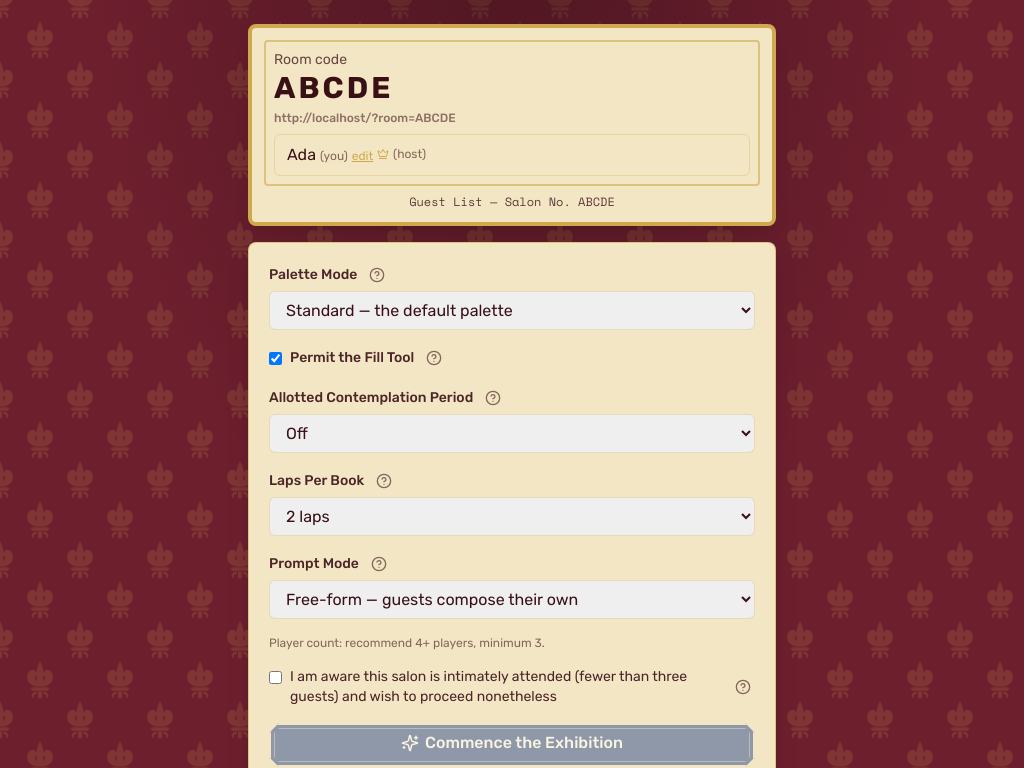
Scenario: Lobby room-code copy affordances › leaves the plain code text matchable (cue lives in a child element)
Step 1. Click the text with test id "room-code" → {"x": 334, "y": 88}, box [274,70,393,106]
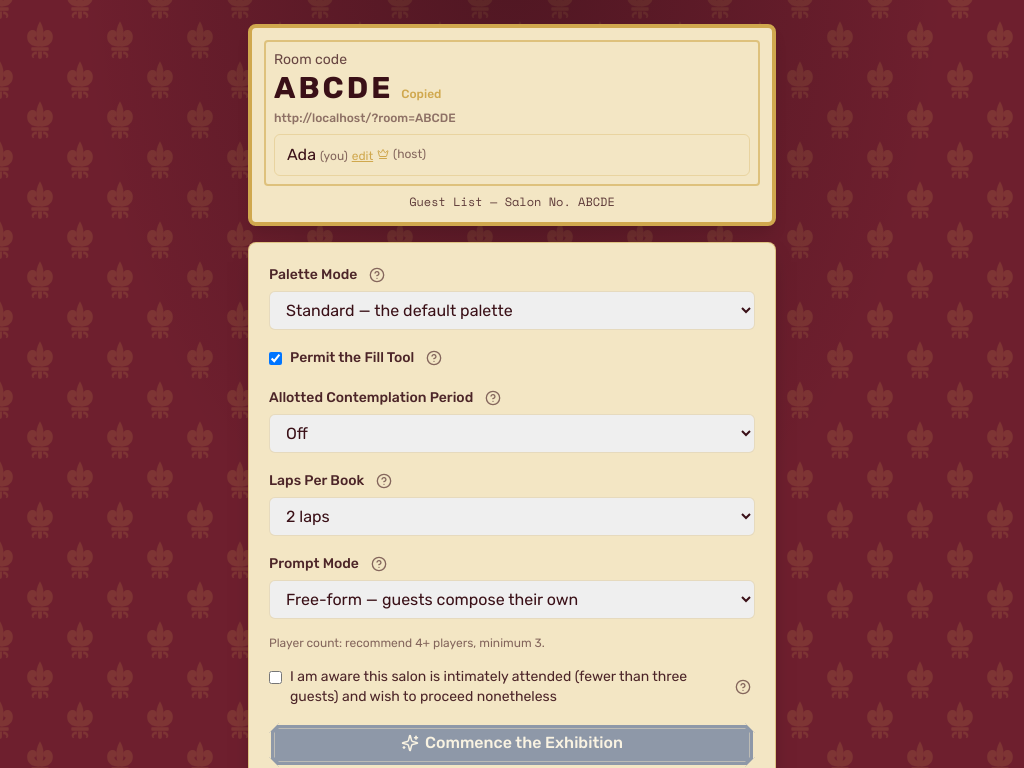
expect the text "Copied" is shown: met, box [401,86,441,102]
